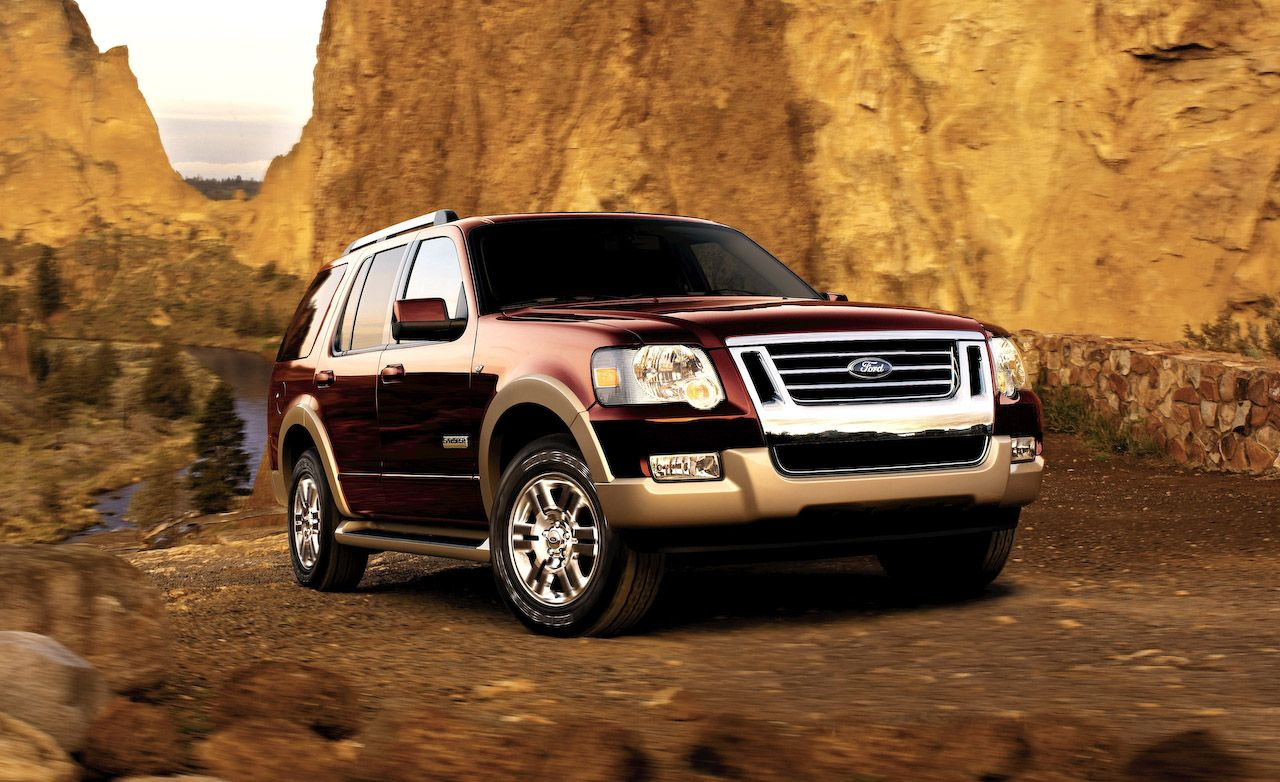Ford Explorer: (263, 205, 1050, 643)
